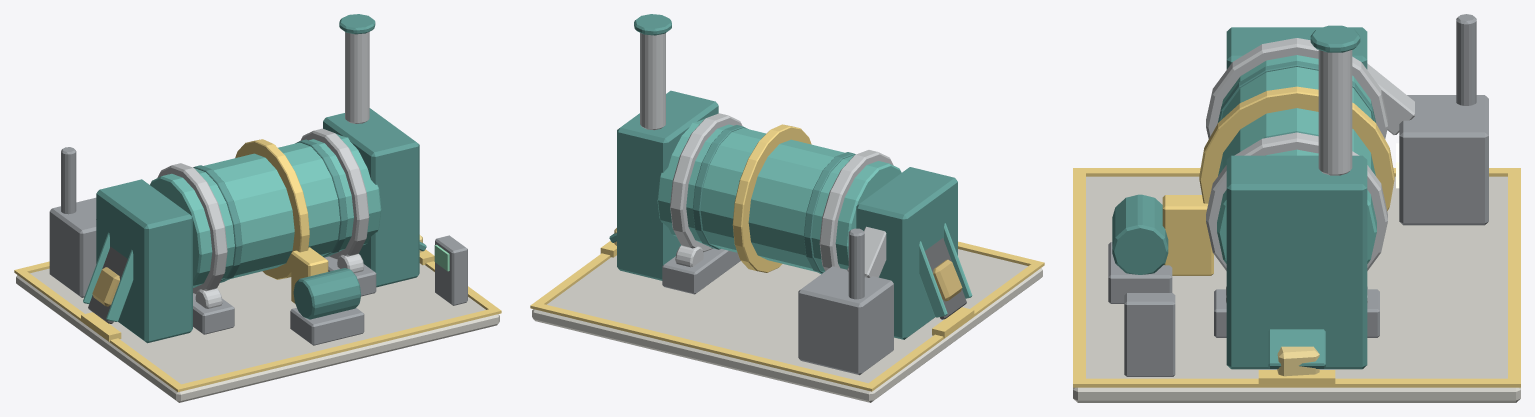
File: Dryer.fbx
The picture shows the model from 3 angles, left to right: view 1: azimuth 30°, elevation 25°; view 2: azimuth 150°, elevation 25°; view 3: azimuth 270°, elevation 25°; orthographic projection. The views are drawn at different scales.
Parts seen in each view (by area): view 1: DR_Base, DR_Drum, DR_FeedHood, DR_DischargeHood, DR_Burner, DR_Motor, DR_GearRing, DR_EdgeS, DR_RingA, DR_RingB, DR_Stack, DR_MotorPlinth (+15 smaller); view 2: DR_Base, DR_Drum, DR_FeedHood, DR_DischargeHood, DR_Burner, DR_GearRing, DR_EdgeN, DR_RingB, DR_Stack, DR_RingA, DR_RollerFrame2, DR_EdgeW (+13 smaller); view 3: DR_Base, DR_DischargeHood, DR_Burner, DR_Drum, DR_GearRing, DR_ControlPanel, DR_Stack, DR_Motor, DR_GearGuard, DR_EdgeE, DR_RingA, DR_RingB (+13 smaller).
Boxes of the visible parts, x1=… form: DR_Base: x1=16, y1=263, x2=499, y2=402; DR_Drum: x1=150, y1=134, x2=381, y2=287; DR_FeedHood: x1=96, y1=179, x2=192, y2=343; DR_DischargeHood: x1=323, y1=108, x2=419, y2=287; DR_Burner: x1=49, y1=197, x2=96, y2=297; DR_Motor: x1=293, y1=268, x2=361, y2=319; DR_GearRing: x1=235, y1=139, x2=309, y2=279; DR_EdgeS: x1=173, y1=307, x2=501, y2=392; DR_RingA: x1=157, y1=163, x2=227, y2=294; DR_RingB: x1=300, y1=128, x2=369, y2=259; DR_Stack: x1=345, y1=32, x2=369, y2=123; DR_MotorPlinth: x1=290, y1=307, x2=364, y2=345; DR_Base: x1=532, y1=249, x2=1042, y2=402; DR_Drum: x1=657, y1=119, x2=901, y2=271; DR_FeedHood: x1=856, y1=167, x2=957, y2=339; DR_DischargeHood: x1=617, y1=90, x2=718, y2=280; DR_Burner: x1=798, y1=266, x2=893, y2=375; DR_GearRing: x1=732, y1=124, x2=811, y2=272; DR_EdgeN: x1=530, y1=302, x2=876, y2=391; DR_RingB: x1=670, y1=113, x2=742, y2=252; DR_Stack: x1=640, y1=33, x2=665, y2=130; DR_RingA: x1=819, y1=150, x2=893, y2=270; DR_RollerFrame2: x1=662, y1=248, x2=740, y2=294; DR_EdgeW: x1=869, y1=264, x2=1039, y2=387; DR_Base: x1=1073, y1=176, x2=1520, y2=402; DR_DischargeHood: x1=1226, y1=155, x2=1367, y2=369; DR_Burner: x1=1399, y1=95, x2=1488, y2=225; DR_Drum: x1=1217, y1=55, x2=1376, y2=263; DR_GearRing: x1=1199, y1=86, x2=1394, y2=210; DR_ControlPanel: x1=1124, y1=293, x2=1175, y2=376; DR_Stack: x1=1318, y1=50, x2=1352, y2=175; DR_Motor: x1=1112, y1=194, x2=1168, y2=274; DR_GearGuard: x1=1162, y1=195, x2=1213, y2=275; DR_EdgeE: x1=1086, y1=378, x2=1507, y2=387; DR_RingA: x1=1206, y1=38, x2=1387, y2=138; DR_RingB: x1=1206, y1=132, x2=1387, y2=270.
Size of the model in its own units: 16.1 by 11.65 by 14.
